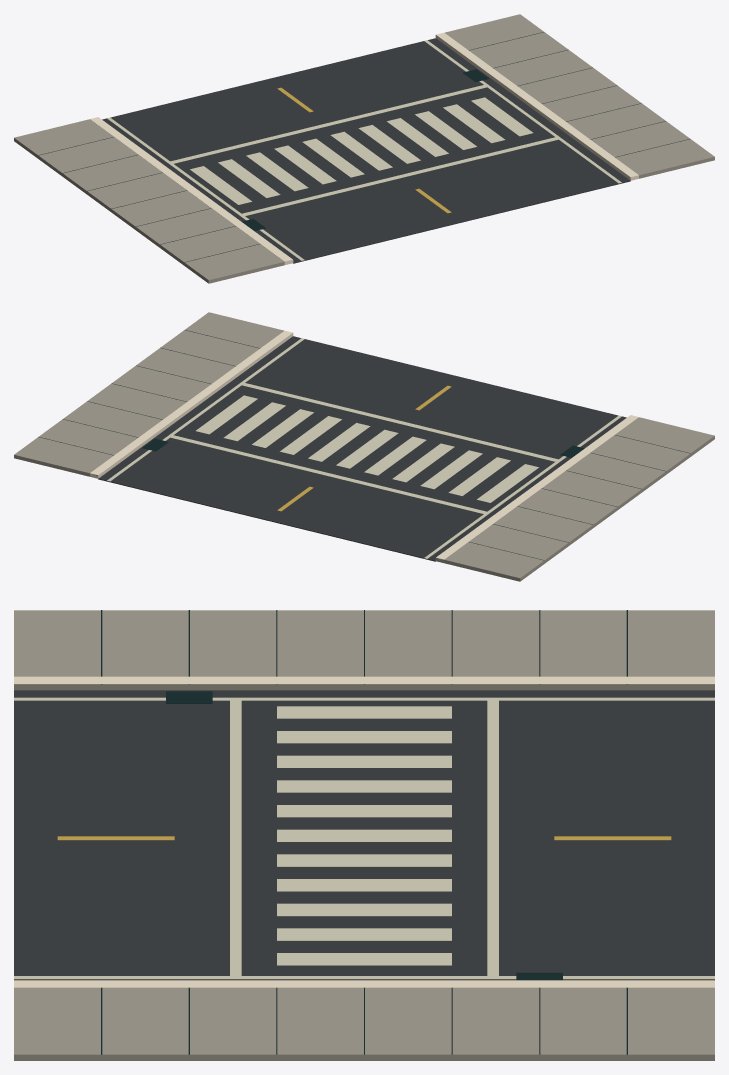
File: oc_road_crossing_01.glb
3 views of the same model, one above another, from view 1: azimuth 30°, elevation 25°; view 2: azimuth 150°, elevation 25°; view 3: azimuth 270°, elevation 25° (orthographic). The views are drawn at different scales.
Visible parts, largest first — view 1: LOD1_OC_Asphalt, LOD1_OC_Concrete, LOD1_OC_Line_White, LOD1_OC_Stucco_Ivory, LOD1_OC_Charcoal; view 2: LOD1_OC_Asphalt, LOD1_OC_Concrete, LOD1_OC_Line_White, LOD1_OC_Stucco_Ivory, LOD1_OC_Charcoal; view 3: LOD1_OC_Asphalt, LOD1_OC_Concrete, LOD1_OC_Line_White, LOD1_OC_Stucco_Ivory, LOD1_OC_Charcoal, LOD1_OC_Line_Yellow.
Part boxes in pixels (x1,y1,x2,y2): LOD1_OC_Asphalt: [102, 38, 630, 263]; LOD1_OC_Concrete: [14, 14, 714, 283]; LOD1_OC_Line_White: [107, 40, 621, 260]; LOD1_OC_Stucco_Ivory: [90, 32, 638, 264]; LOD1_OC_Charcoal: [38, 32, 689, 262]; LOD1_OC_Asphalt: [98, 336, 626, 561]; LOD1_OC_Concrete: [14, 312, 714, 581]; LOD1_OC_Line_White: [107, 338, 621, 558]; LOD1_OC_Stucco_Ivory: [90, 330, 638, 560]; LOD1_OC_Charcoal: [39, 330, 690, 560]; LOD1_OC_Asphalt: [14, 690, 714, 980]; LOD1_OC_Concrete: [14, 610, 714, 1060]; LOD1_OC_Line_White: [14, 697, 714, 979]; LOD1_OC_Stucco_Ivory: [14, 676, 714, 987]; LOD1_OC_Charcoal: [101, 610, 627, 1054]; LOD1_OC_Line_Yellow: [57, 836, 671, 840].
Size of the model in its own units: 18 by 0.1431 by 12.
